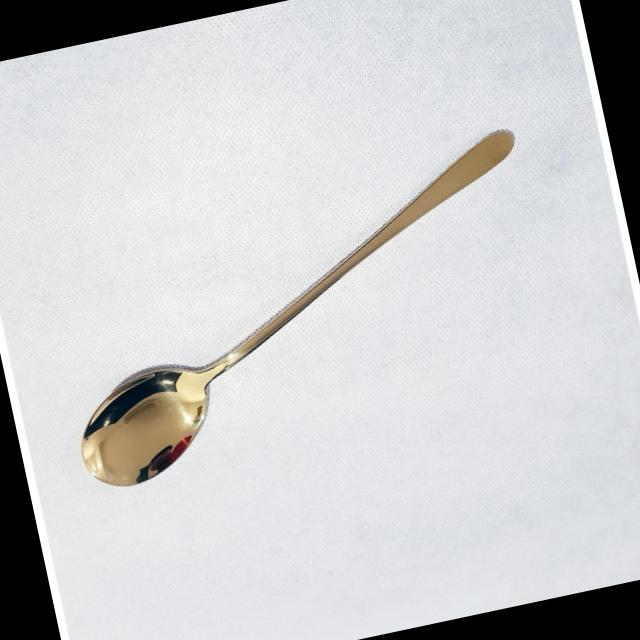spoon: (21, 73, 590, 511)
